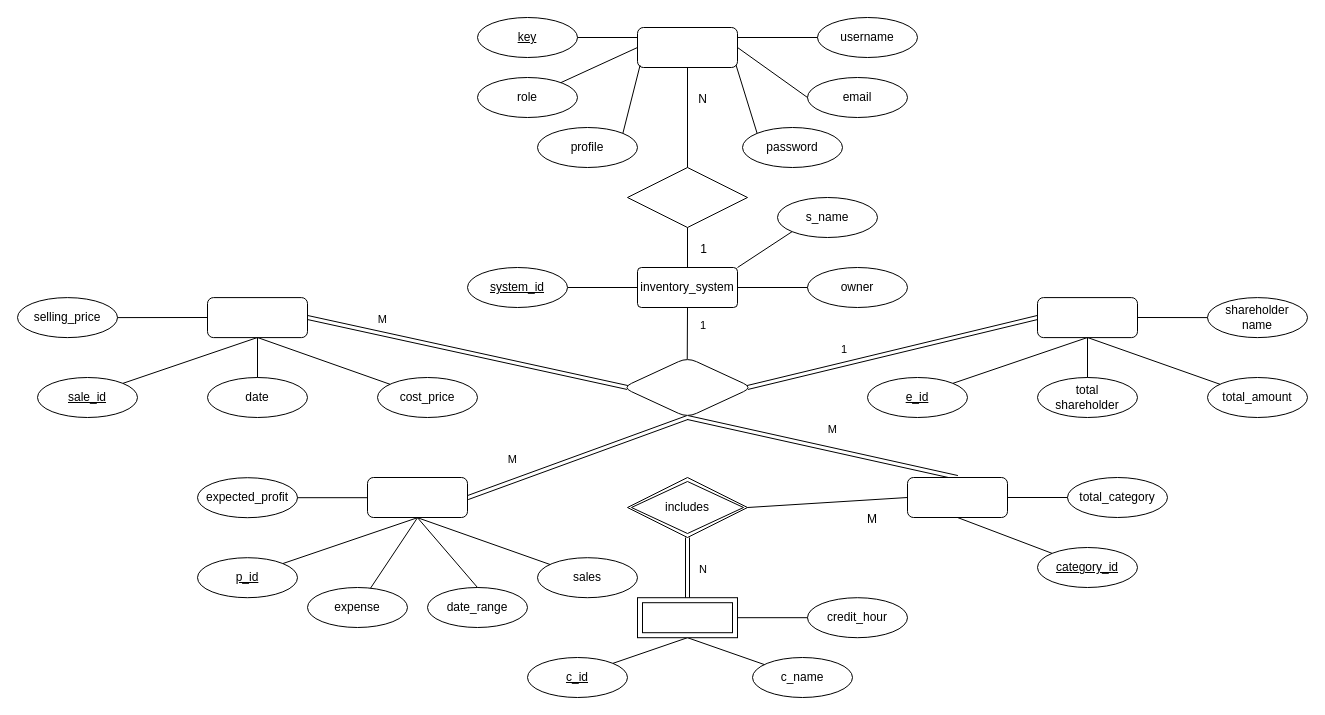
The diagram is 1325 pixels wide and 715 high, and some of its shapes have lost their labels. Each missing label, with the box of its shape:
category: (906, 476, 1008, 518)
equity_info: (1036, 297, 1138, 338)
product: (636, 597, 738, 638)
provides_info: (622, 356, 752, 418)
registers: (626, 166, 748, 228)
sale_info: (206, 297, 308, 338)
sale_predict: (366, 476, 468, 518)
user: (636, 26, 738, 68)
